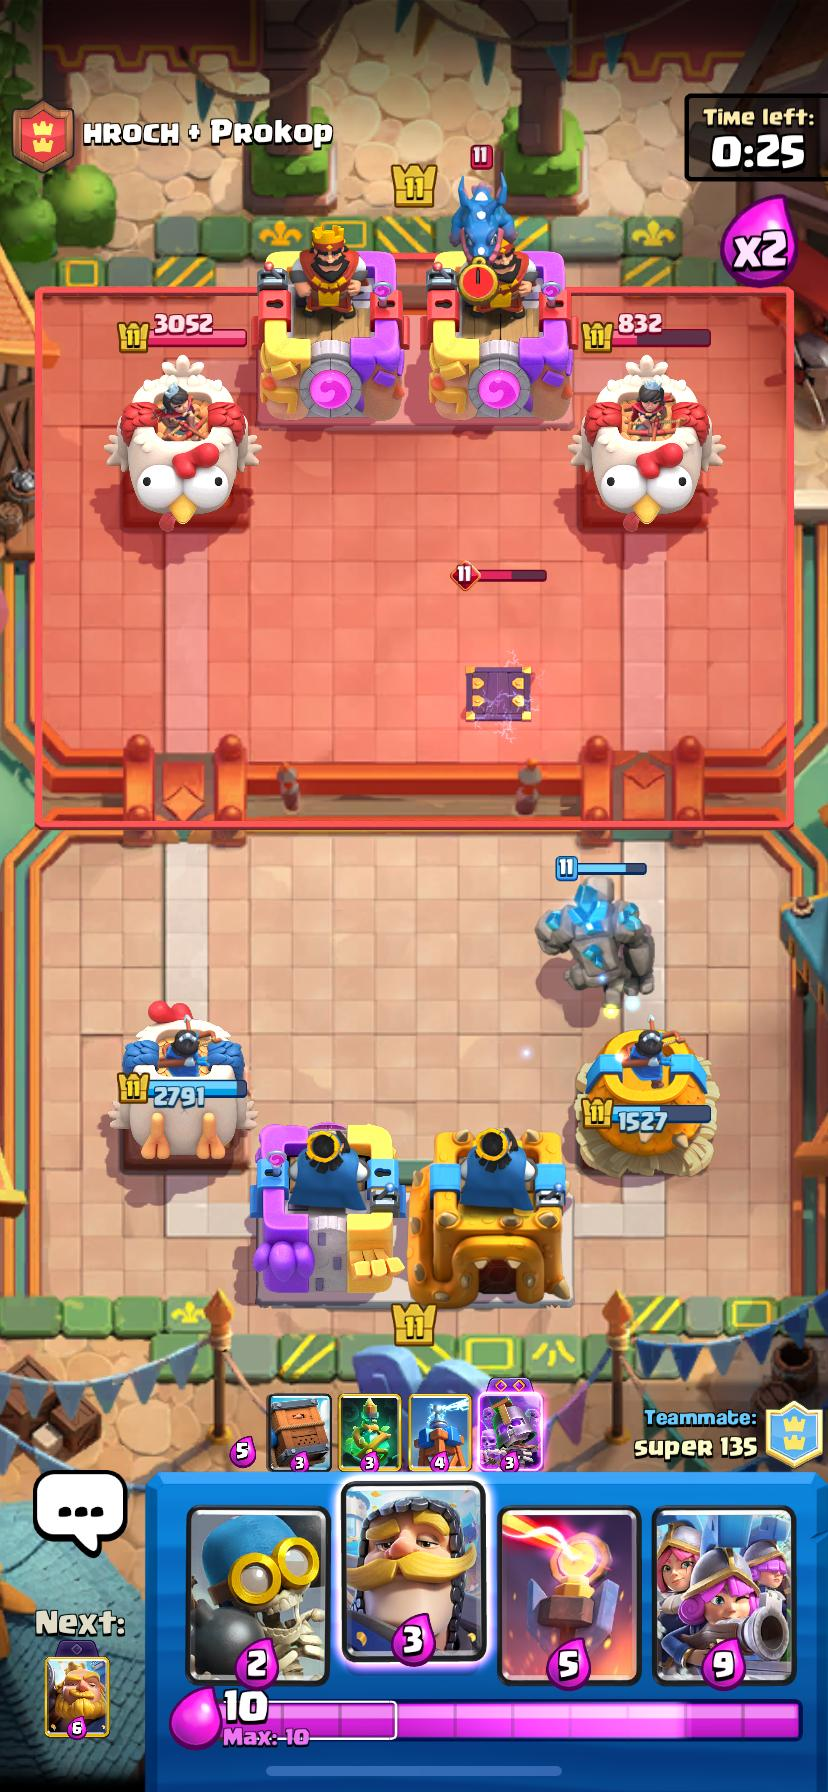EEVTesla: (449, 560, 547, 641), (465, 666, 531, 722)
EElectroDrag: (452, 178, 515, 261)
EKingTower: (262, 231, 404, 425), (436, 251, 570, 423)
EnemyPrincessTower: (570, 357, 722, 528), (105, 355, 258, 523)
OGolem: (535, 878, 654, 1011)
OwnKingTower: (408, 1128, 571, 1307), (250, 1123, 401, 1303)
OwnPrincessTower: (109, 1001, 256, 1163), (576, 1018, 716, 1175)
